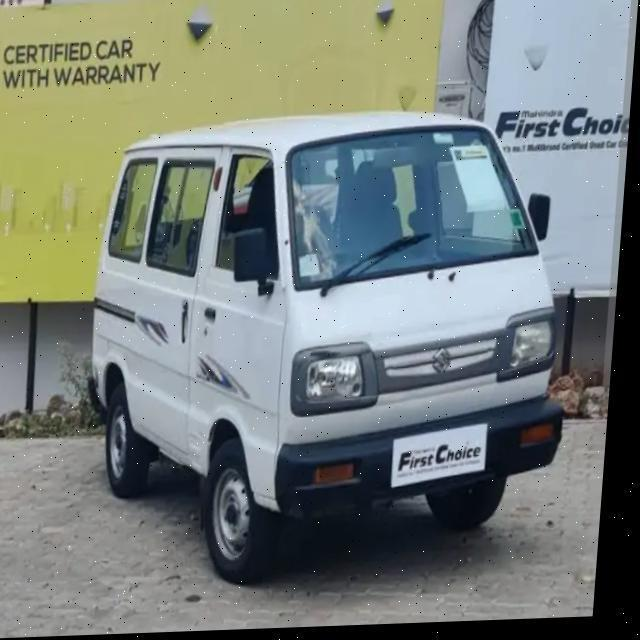Ambulance: (76, 104, 592, 594), (0, 412, 614, 638), (418, 0, 640, 405)
